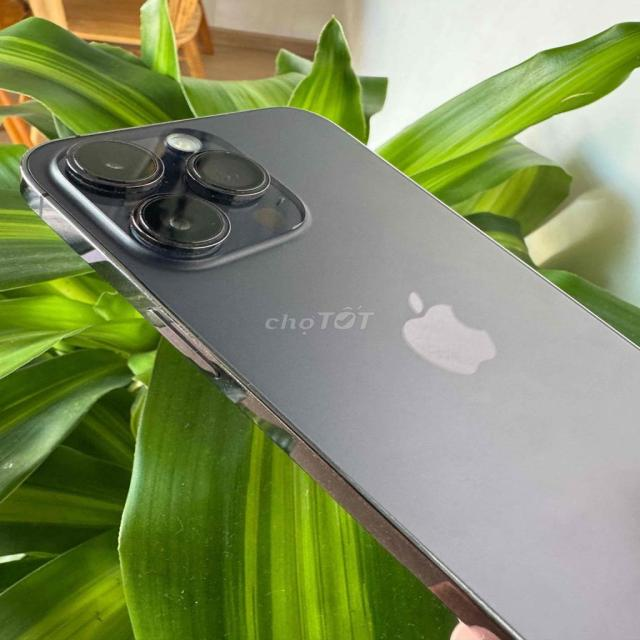gen_14: (14, 102, 640, 640)
